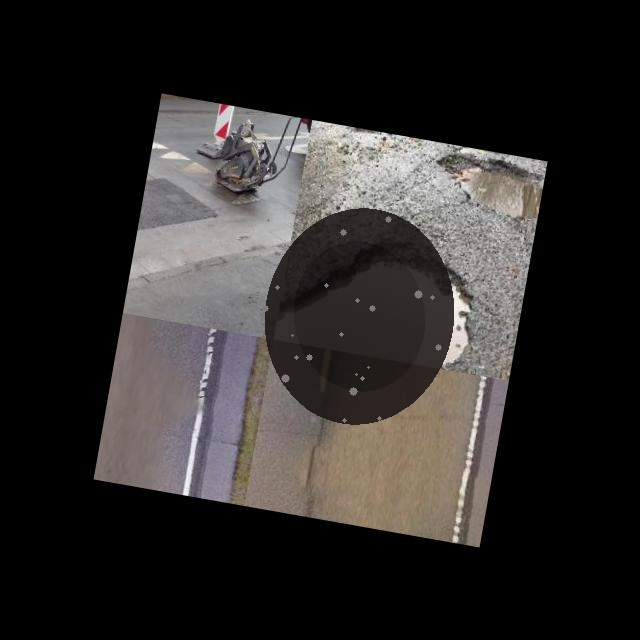pothole: (260, 203, 458, 429)
